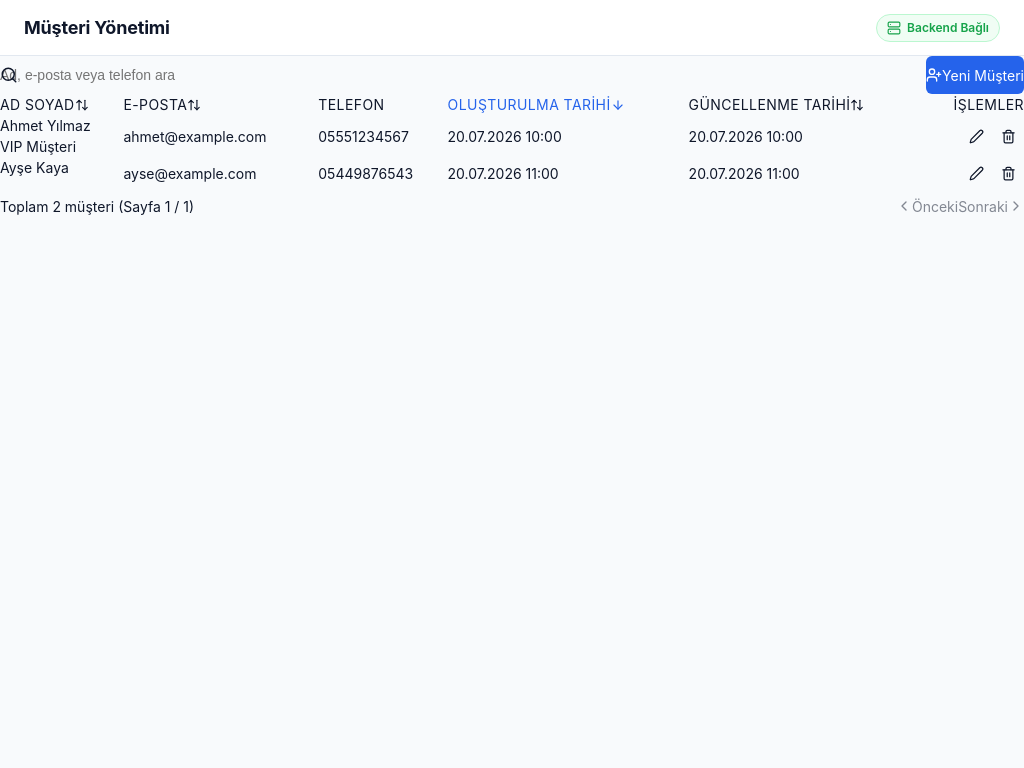
CustomersPage Integration › displays delete relationship conflict error inside delete dialog on HTTP 409 and keeps modal open
Expected: the text "Ahmet Yılmaz" is shown, x1=0 y1=117 x2=91 y2=134
Click the button named "Ahmet Yılmaz müşterisini sil".
click(1008, 136)  # box x1=992 y1=120 x2=1023 y2=152
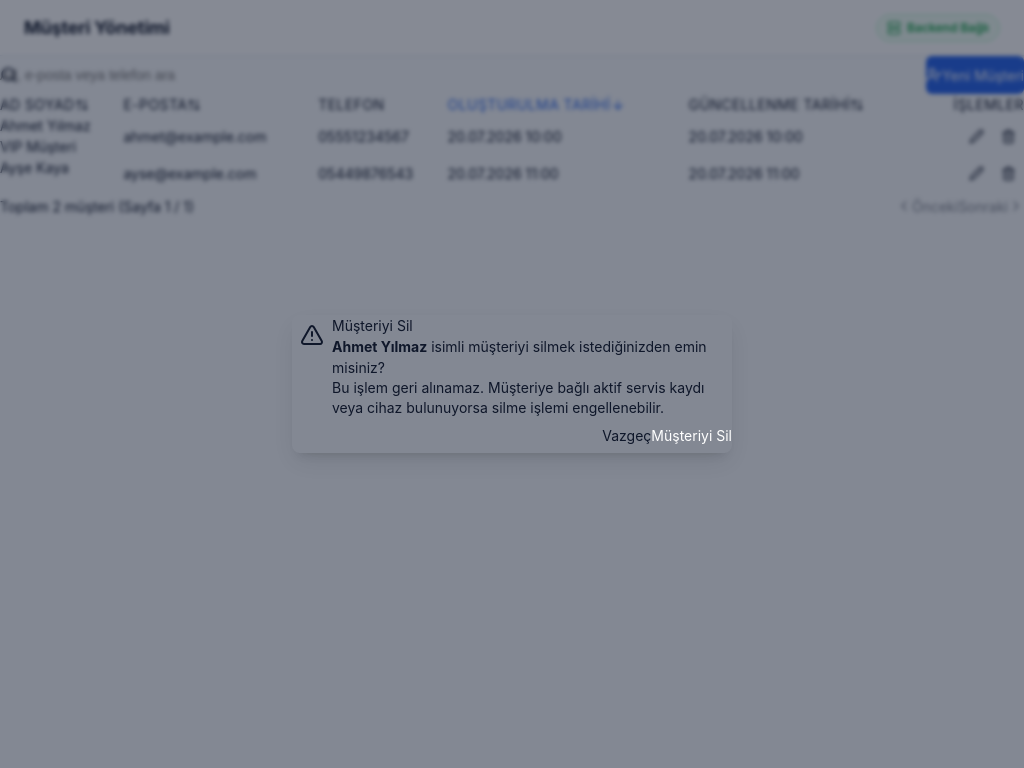
Click the button "Müşteriyi Sil".
click(692, 435)  # box x1=651 y1=417 x2=732 y2=453
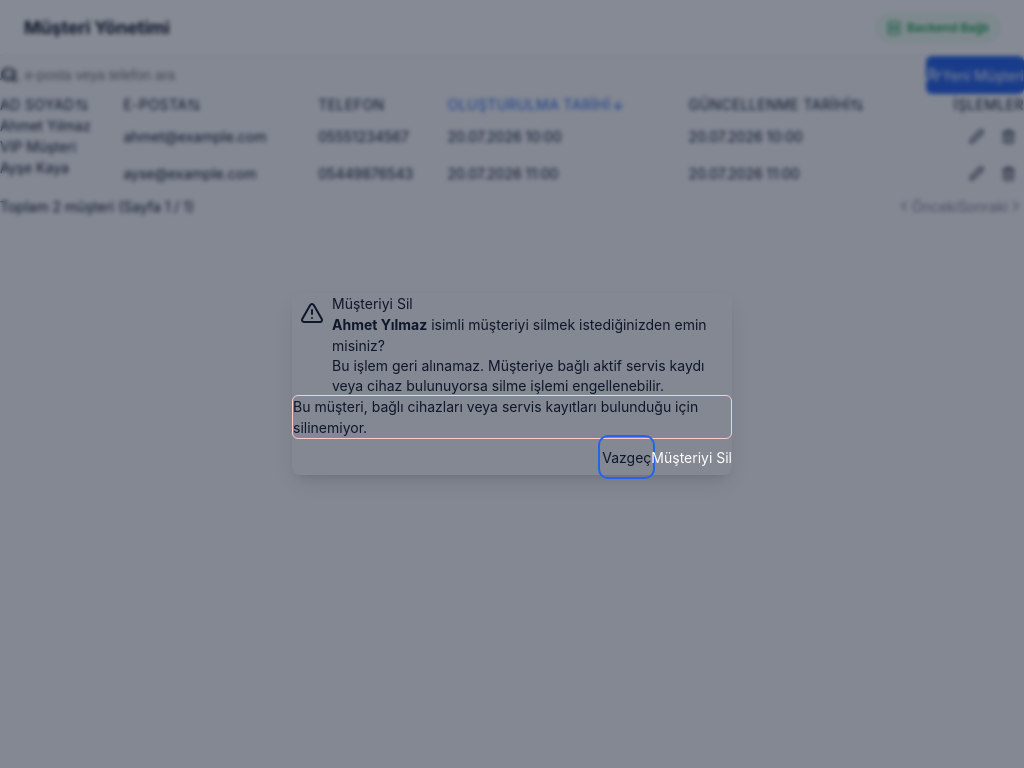
Result: the dialog "Müşteriyi Sil" is shown at x1=292 y1=293 x2=732 y2=475
Result: the text "Ahmet Yılmaz" is shown at x1=332 y1=316 x2=427 y2=333
Result: the text "Bu müşteri, bağlı cihazları veya servis kayıtları bulunduğu için silinemiyor." is shown at x1=292 y1=395 x2=732 y2=439
